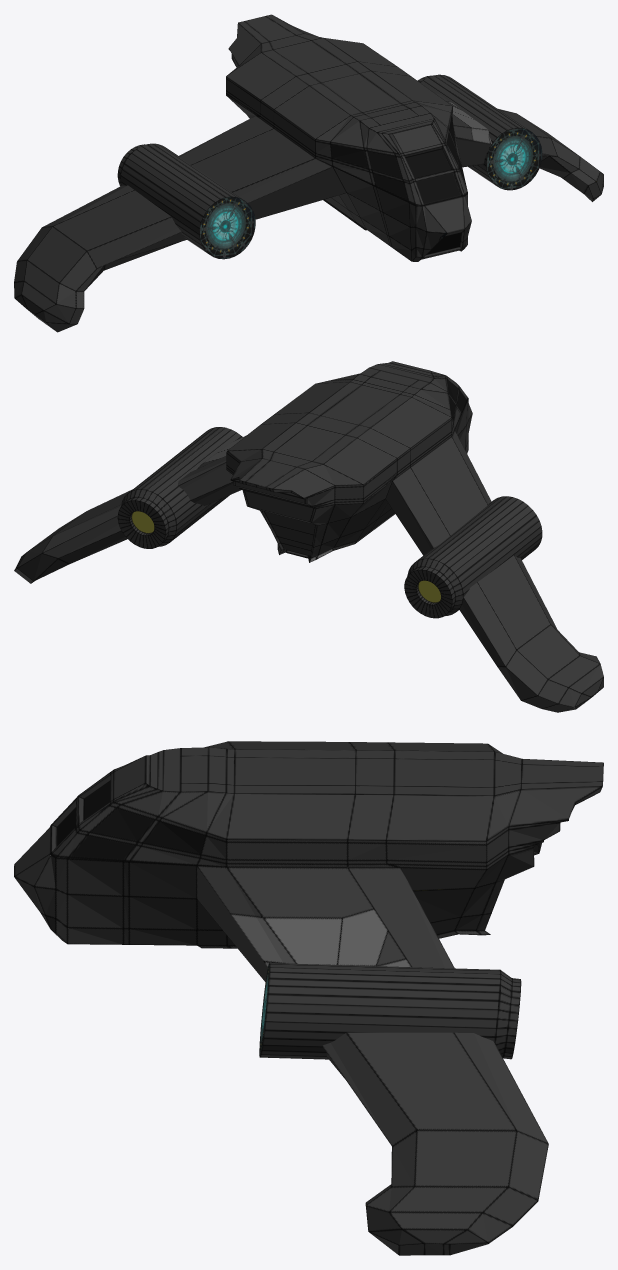
The model's file is GhostShips-f.obj.
The picture shows the model from 3 angles, top to bottom: view 1: azimuth 30°, elevation 25°; view 2: azimuth 150°, elevation 25°; view 3: azimuth 270°, elevation 25°; orthographic projection. The views are drawn at different scales.
Parts seen in each view (by area): view 1: Cube; view 2: Cube; view 3: Cube.
Part boxes in pixels (box(x1,y1,x2,y2)): Cube: box(14, 14, 603, 332); Cube: box(14, 361, 603, 712); Cube: box(14, 741, 603, 1255).
Bounding box in the file's own units: 20.06 × 6.88 × 12.44.
